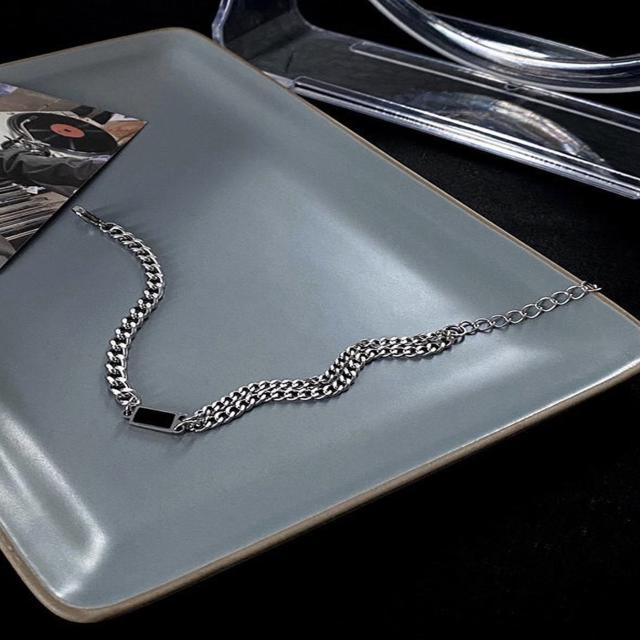bracelet: (0, 158, 640, 535)
